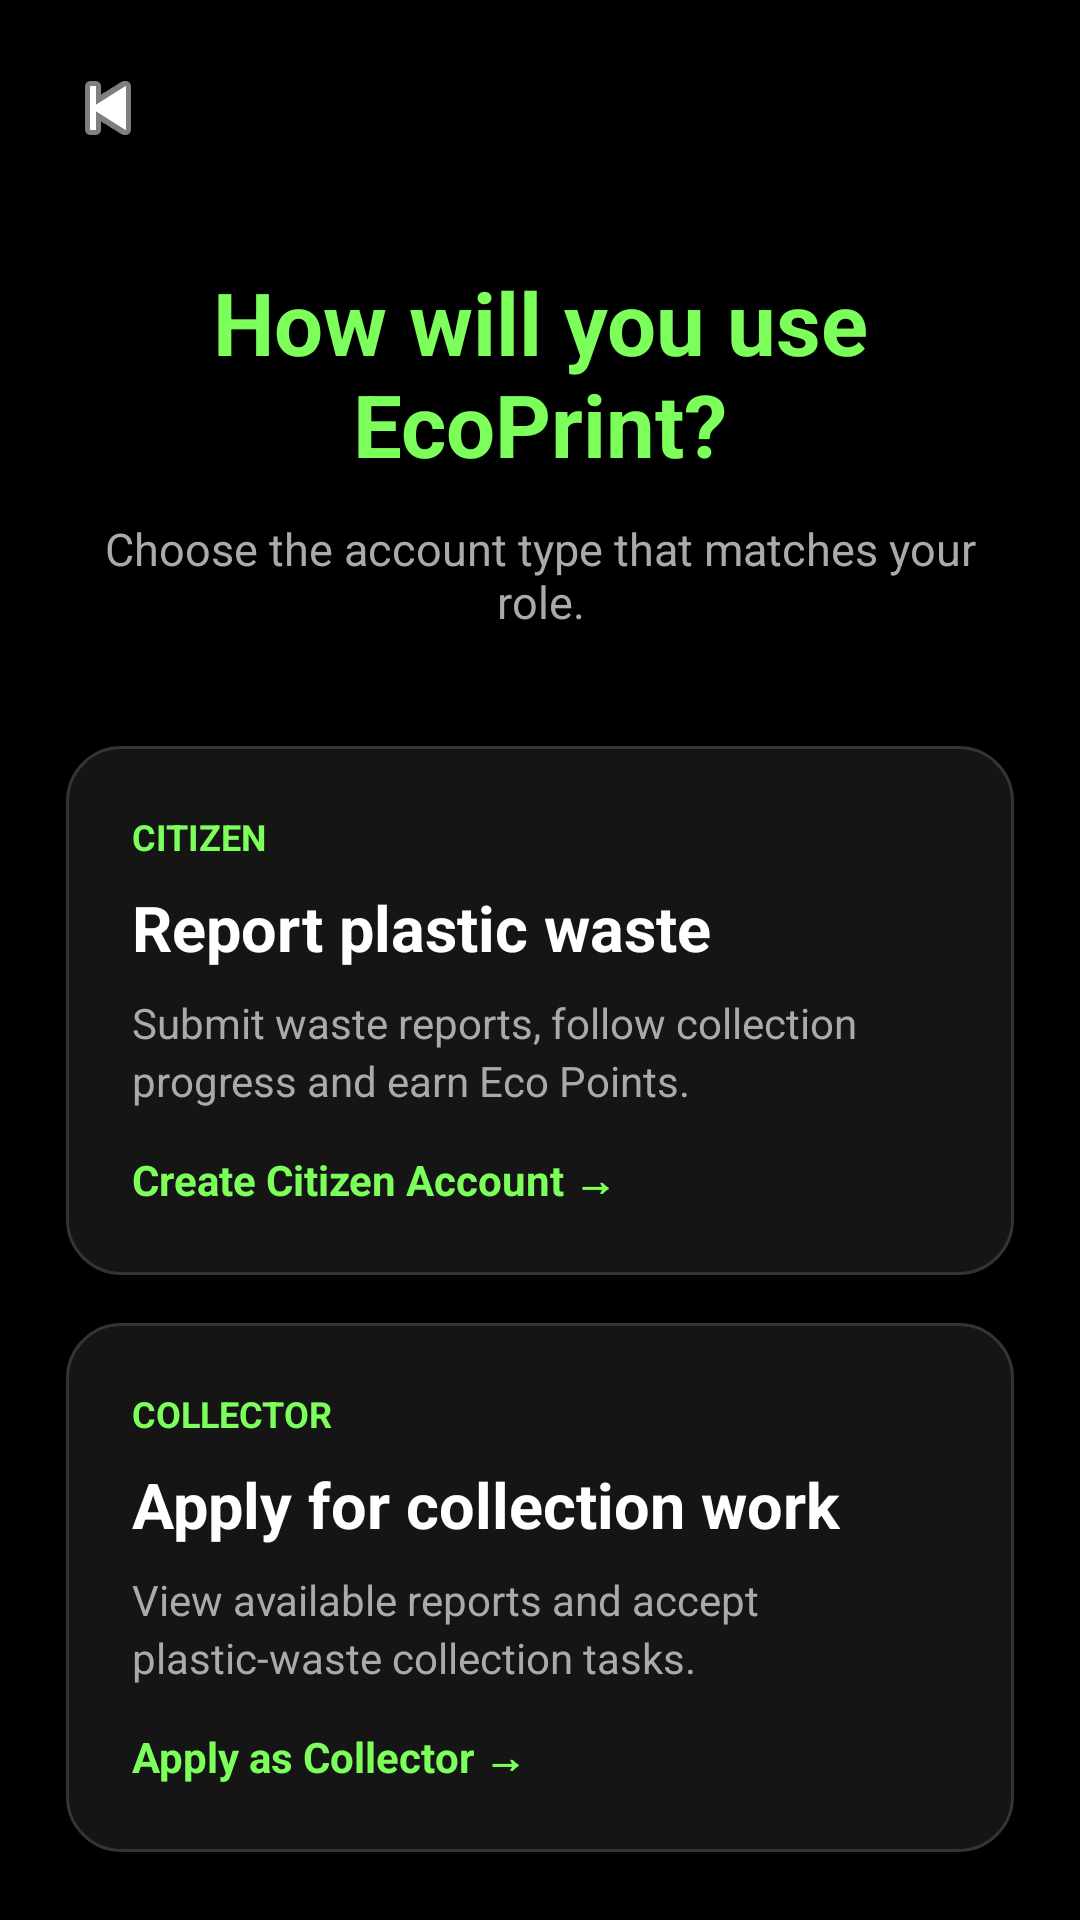

Screen size 1080 × 1920. Icon name, then its center in pixels as [x,y]:
Back: [108,108]
